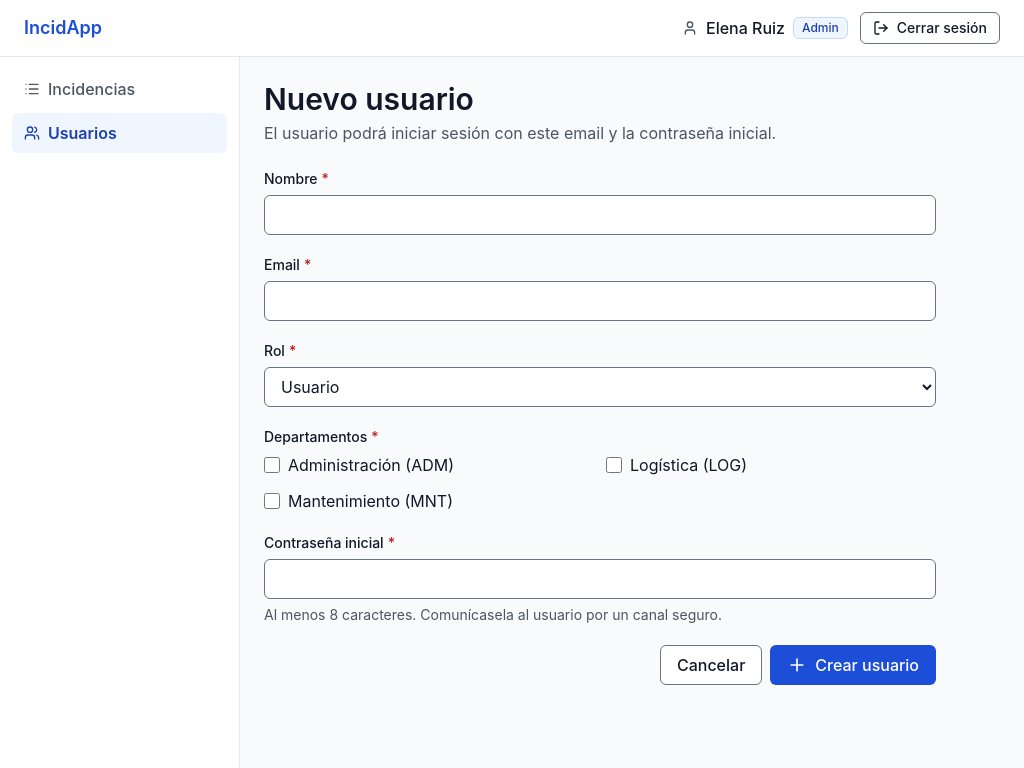
Test: CA-02.19 · alta de usuario › al crear, envía los datos y vuelve al listado con los datos nuevos y un aviso de éxito
The width and height of the screenshot is (1024, 768).
Check: the button "Crear usuario" is shown, box left=770, top=645, right=936, bottom=685
Type "Lucía Gil" into the field labelled "Nombre*" at (600, 215), box left=264, top=195, right=936, bottom=235
Type "lucia.gil@incidapp.test" into the field labelled "Email*" at (600, 301), box left=264, top=281, right=936, bottom=321
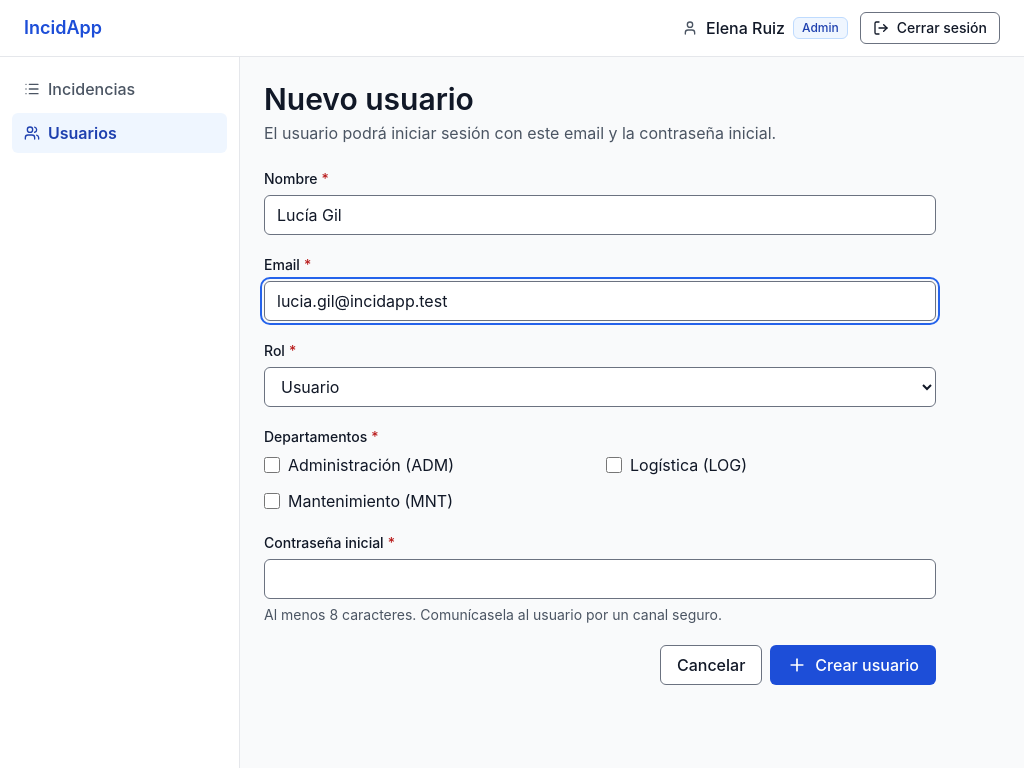
Select "Responsable" in the dropdown labelled "Rol*" at (600, 387), box left=264, top=367, right=936, bottom=407
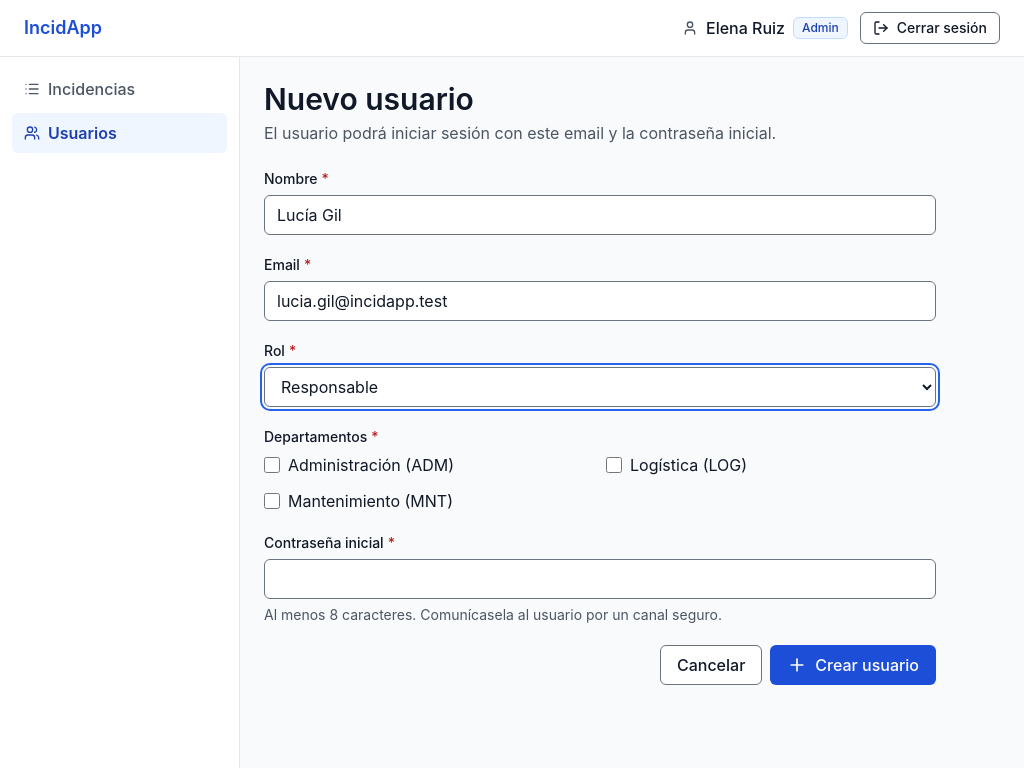
Click the checkbox labelled "Logística (LOG)" at (614, 465), box left=606, top=457, right=622, bottom=473
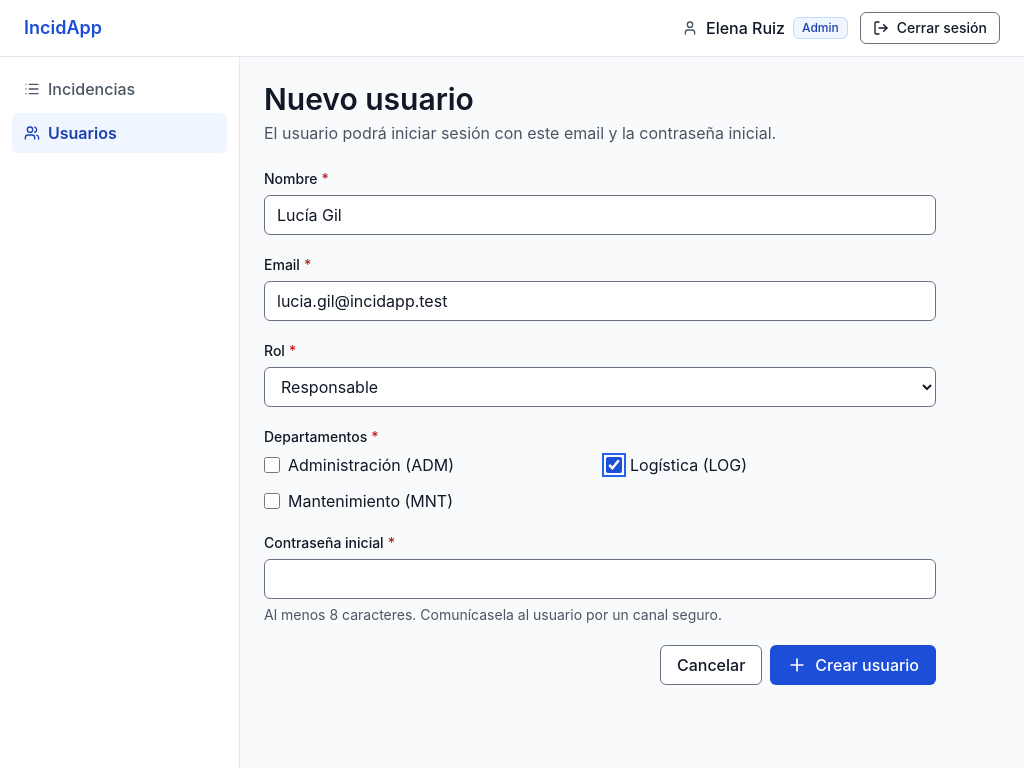
Click the checkbox labelled "Mantenimiento (MNT)" at (272, 501), box left=264, top=493, right=280, bottom=509
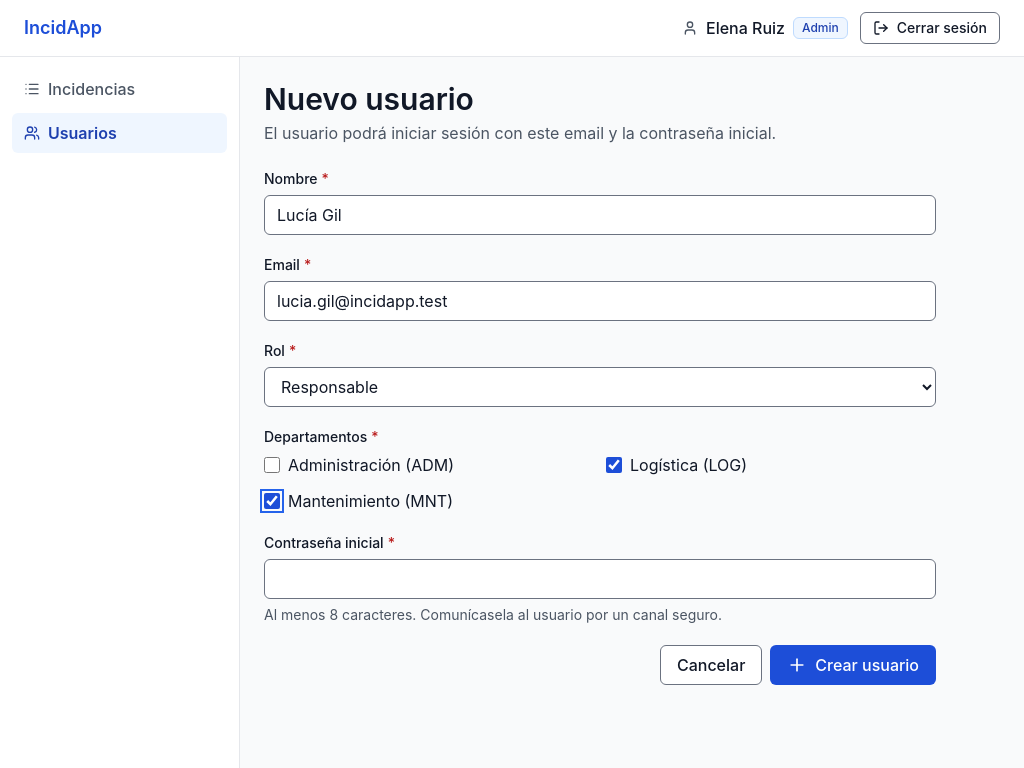
Type "Segura2026!" into the password field labelled "Contraseña inicial*" at (600, 579), box left=264, top=559, right=936, bottom=599
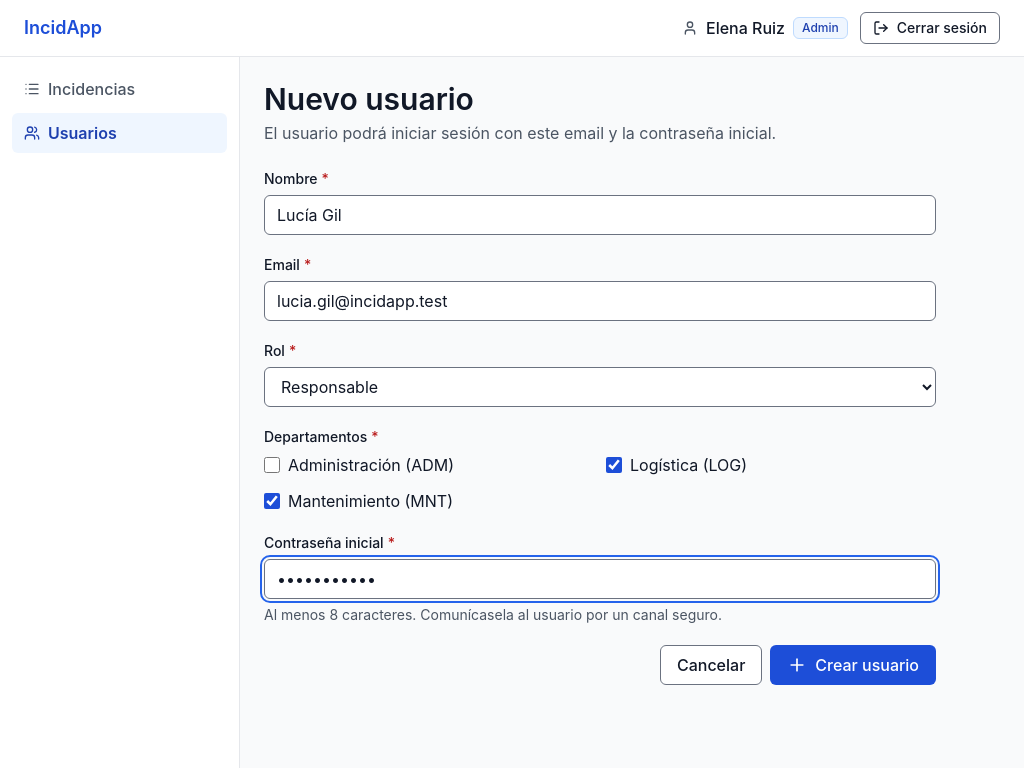
Click the button "Crear usuario" at (853, 665), box left=770, top=645, right=936, bottom=685
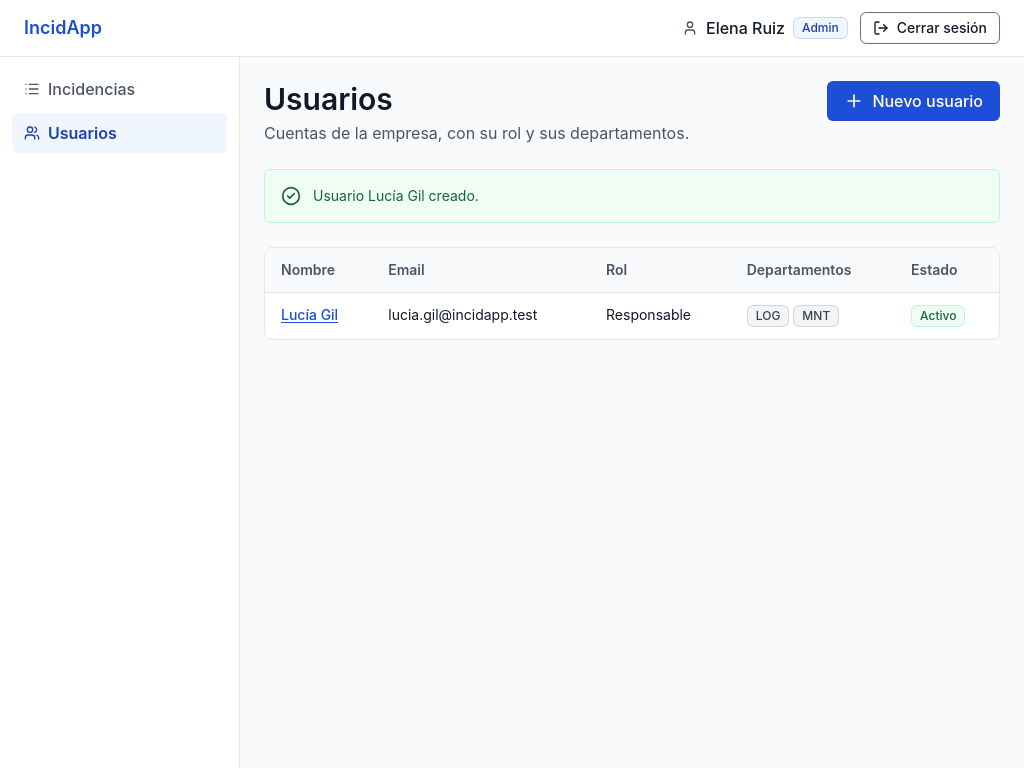
Check: the text "Usuario Lucía Gil creado." is shown, box left=313, top=186, right=479, bottom=206
Check: the link "Lucía Gil" is shown, box left=281, top=306, right=338, bottom=323
